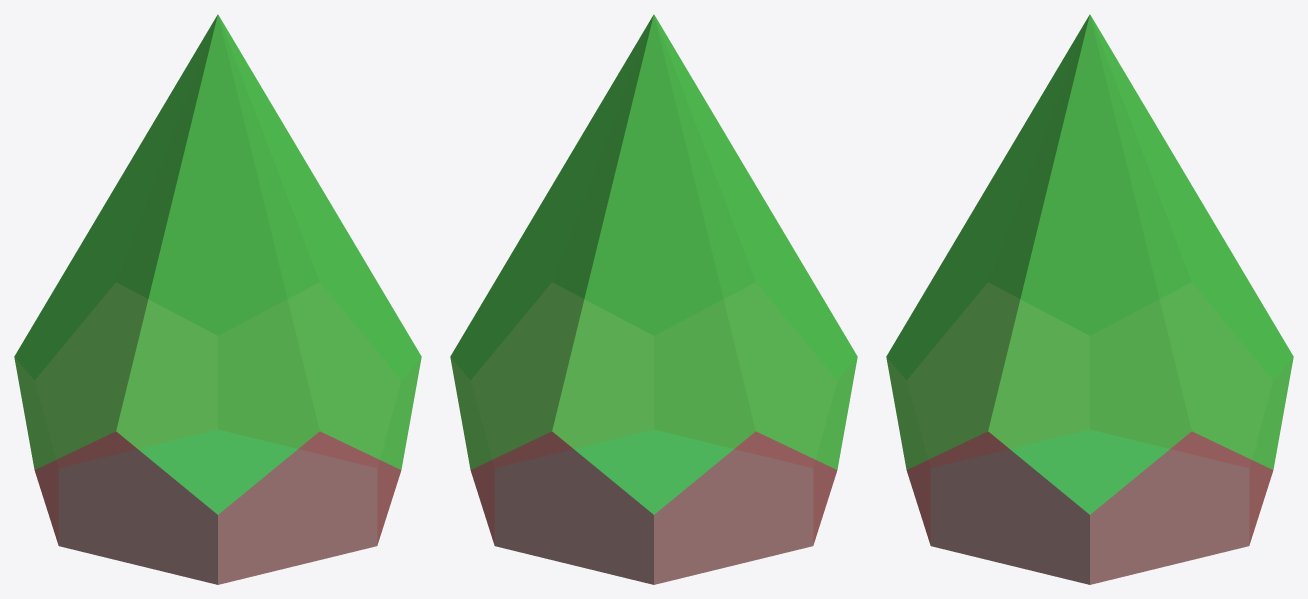
The model's file is pipa6p.obj.
3 renders of one model, left to right at view 1: azimuth 30°, elevation 25°; view 2: azimuth 150°, elevation 25°; view 3: azimuth 270°, elevation 25°, orthographic.
Bounding box in the file's own units: 2.3 × 2.96 × 2.22.
